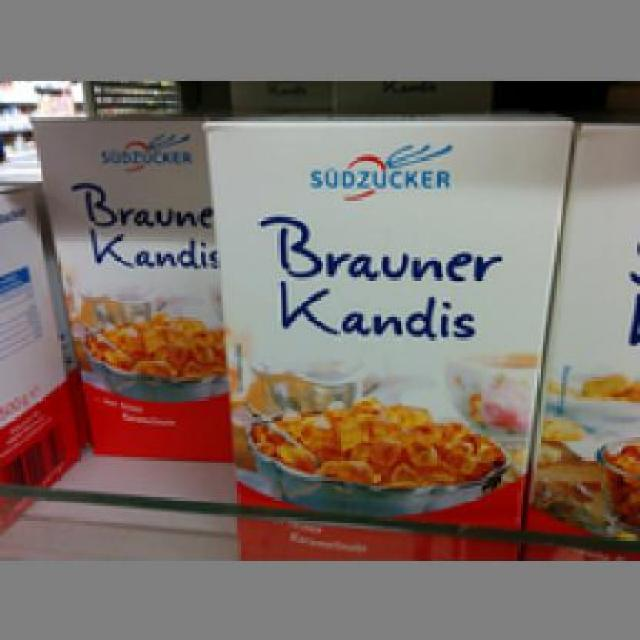Sugar: (200, 108, 569, 558), (25, 109, 228, 460)
